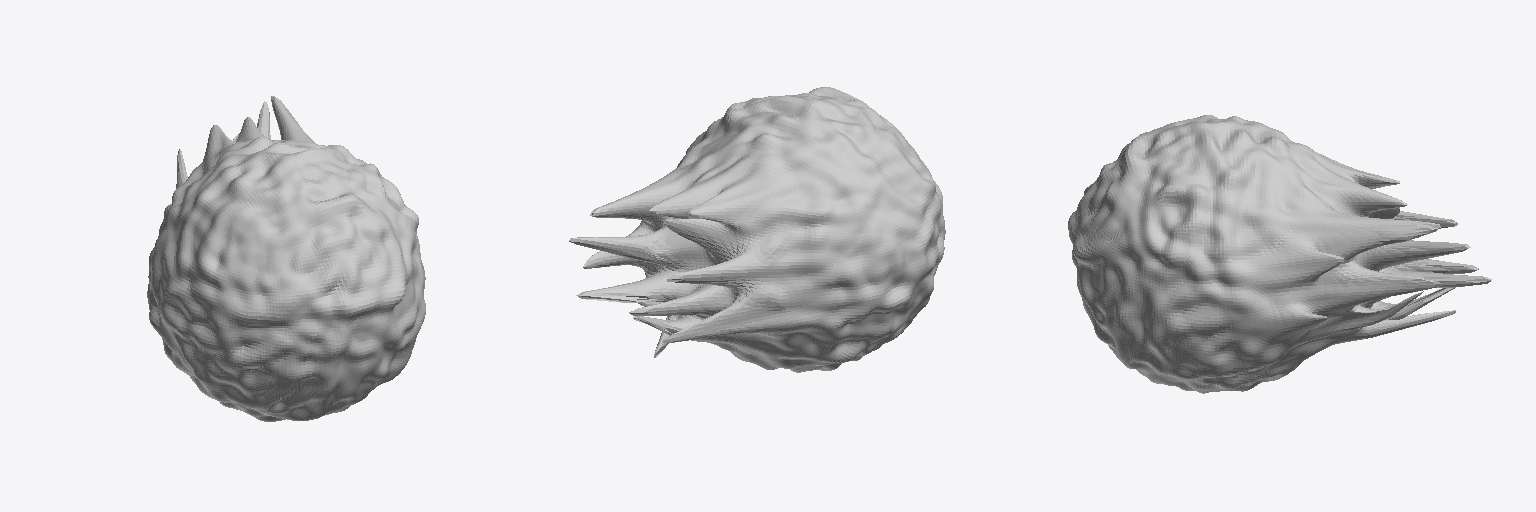
Rendered from comet.obj.
3 views of the same model, side by side, from view 1: azimuth 30°, elevation 25°; view 2: azimuth 150°, elevation 25°; view 3: azimuth 270°, elevation 25° (orthographic).
Visible parts, largest first — view 1: Quad_Sphere; view 2: Quad_Sphere; view 3: Quad_Sphere.
Boxes of the visible parts, <box> form: Quad_Sphere: <box>147,96,425,421</box>; Quad_Sphere: <box>569,87,945,372</box>; Quad_Sphere: <box>1068,115,1491,393</box>.
Bounding box in the file's own units: 2.81 × 2.76 × 4.12.